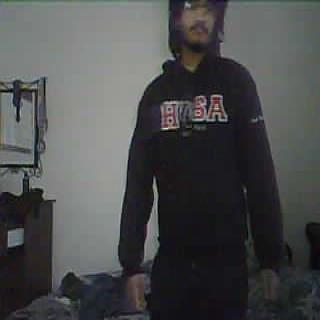HOSA Hoodie: (120, 55, 285, 260)
Navy Sweatpants: (153, 258, 248, 320)
